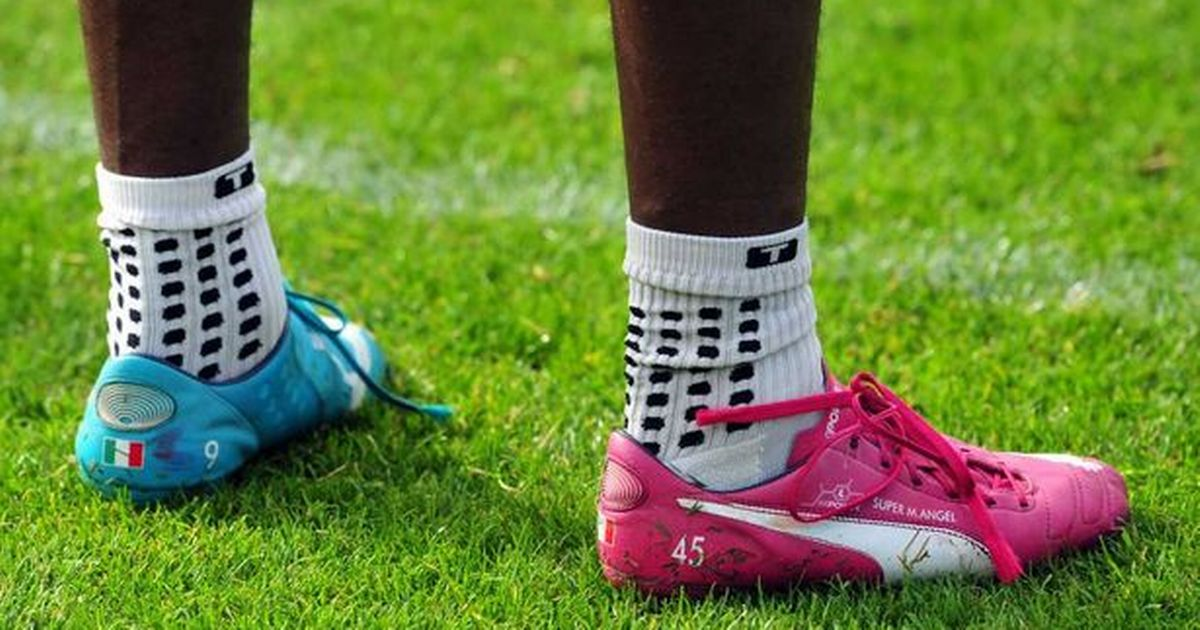football boots: (599, 360, 1132, 600), (78, 287, 389, 500)
